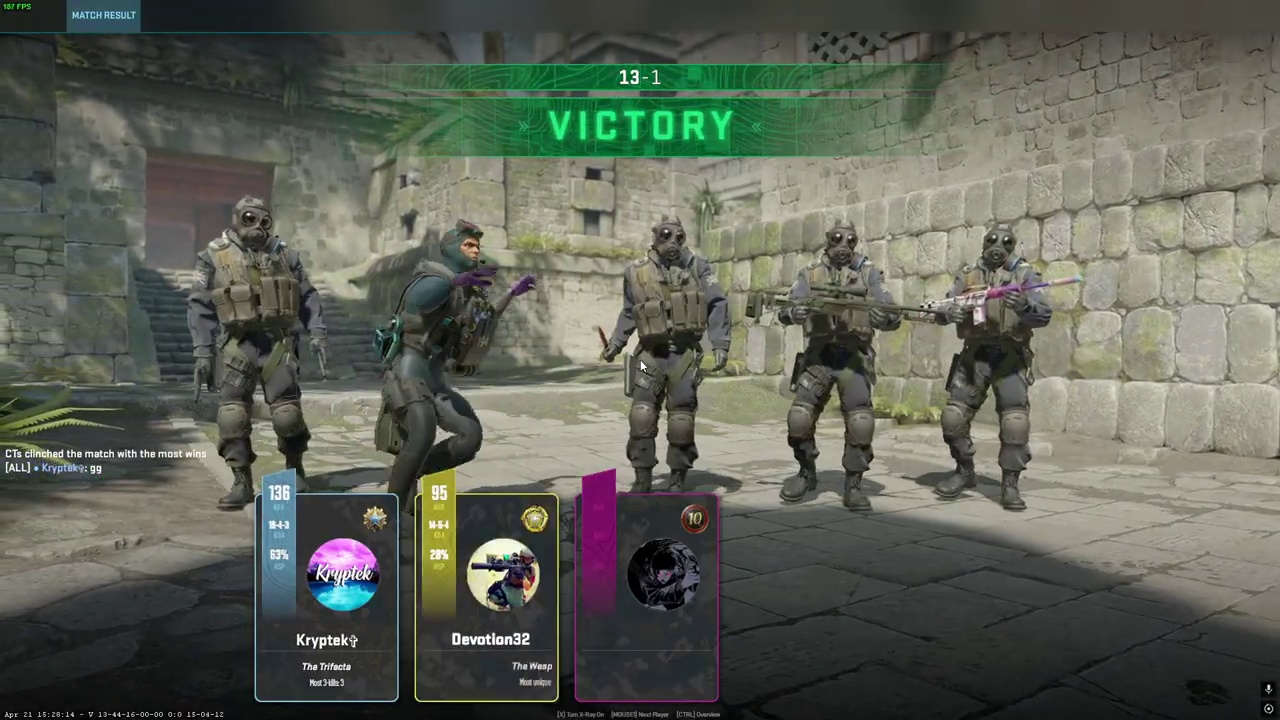CT: (190, 195, 313, 505), (374, 218, 500, 498), (779, 221, 894, 508), (936, 226, 1048, 507), (618, 215, 720, 495)
